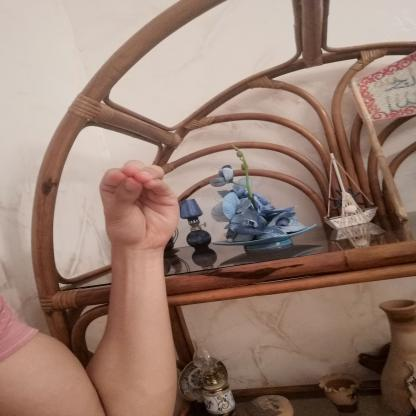HA: (77, 142, 200, 267)
